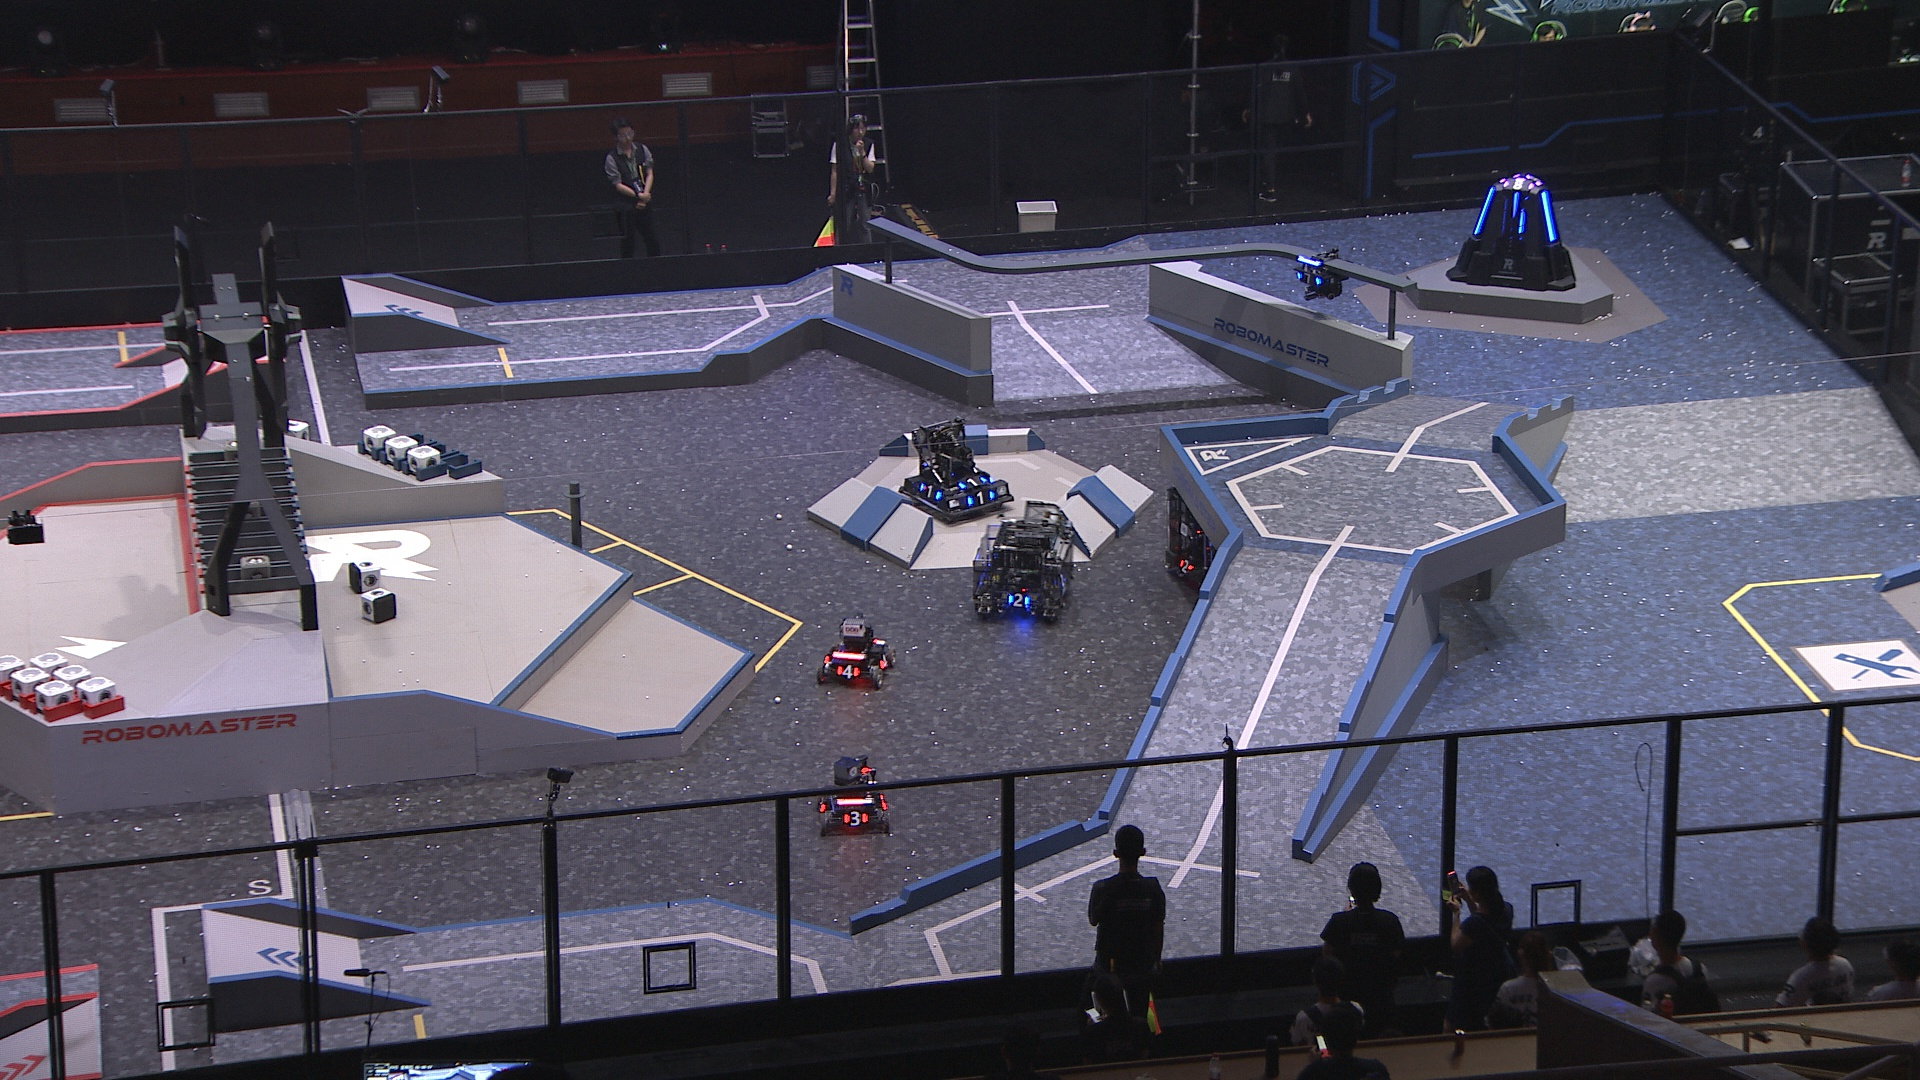armor: (1474, 187, 1494, 237), (1539, 191, 1557, 243), (1004, 589, 1033, 611), (963, 491, 1000, 506), (839, 811, 870, 828), (918, 484, 944, 504), (1294, 272, 1321, 287), (835, 665, 862, 679), (959, 475, 988, 488), (1178, 559, 1196, 576), (1055, 571, 1069, 589), (1516, 210, 1527, 235), (877, 654, 891, 669)
base: (1447, 169, 1577, 291)
car: (971, 498, 1083, 626), (894, 415, 1013, 524), (1160, 483, 1273, 595), (818, 752, 891, 839), (814, 615, 895, 692)
ignore: (1501, 177, 1534, 191)
watcher: (1291, 249, 1352, 302)
